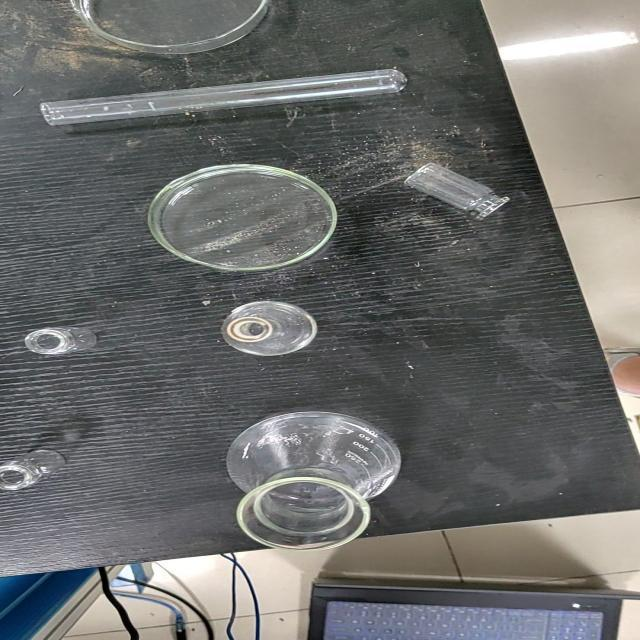bottles: (403, 161, 510, 221)
cardboard: (1, 0, 638, 577)
cups: (225, 409, 401, 549)
